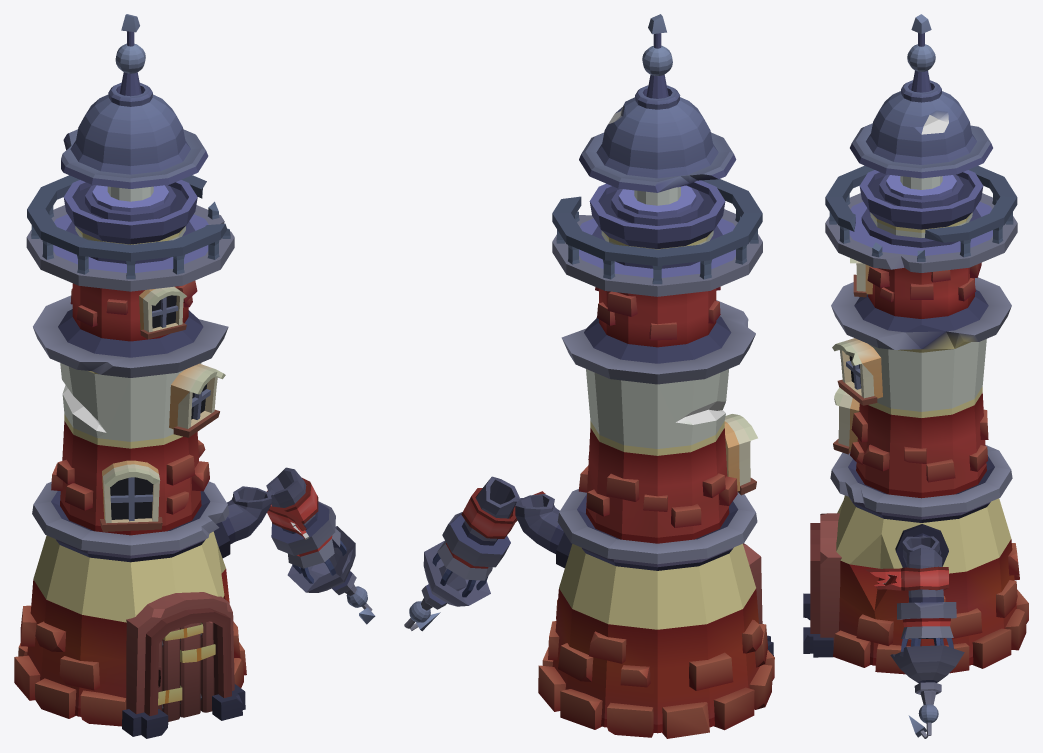
The model's file is LightHouseDamagedVersion2.fbx.
3 renders of one model, left to right at view 1: azimuth 30°, elevation 25°; view 2: azimuth 150°, elevation 25°; view 3: azimuth 270°, elevation 25°, orthographic. The views are drawn at different scales.
Parts seen in each view (by area): view 1: Plane; view 2: Plane; view 3: Plane.
Part boxes in pixels (box(x1,y1,x2,y2)): Plane: box(14, 14, 375, 738); Plane: box(404, 14, 774, 738); Plane: box(803, 14, 1028, 738).
Bounding box in the file's own units: 958 × 1763 × 585.
